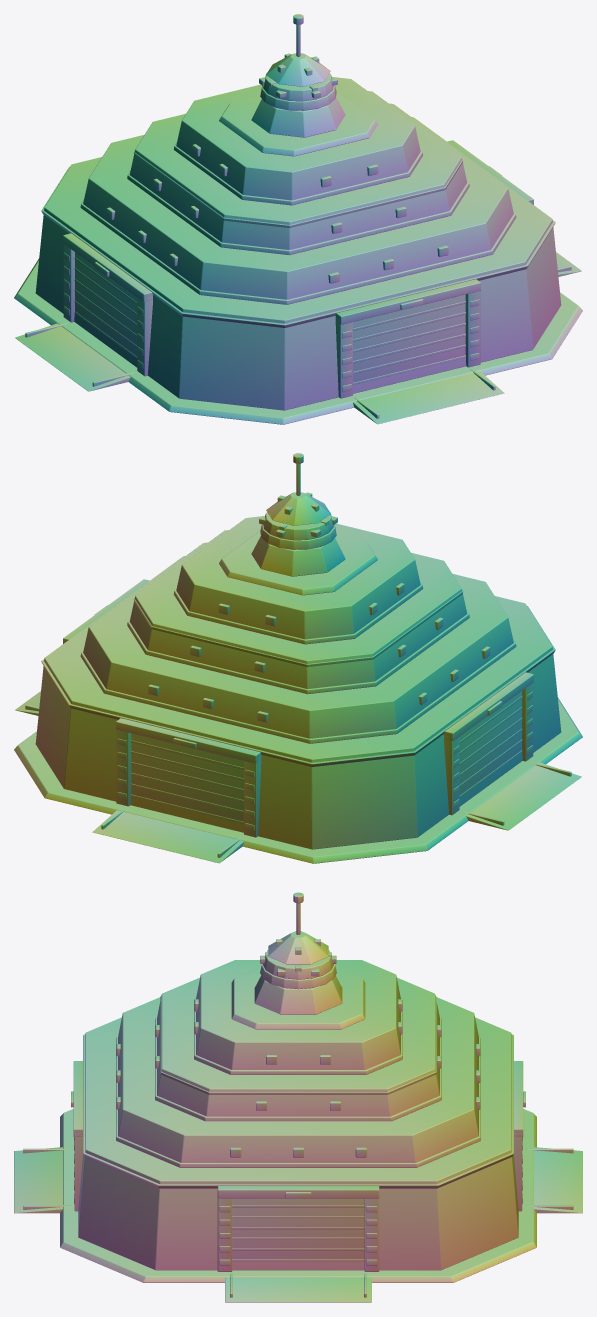
The model's file is hq_t2_rig.glb.
3 renders of one model, top to bottom at view 1: azimuth 30°, elevation 25°; view 2: azimuth 150°, elevation 25°; view 3: azimuth 270°, elevation 25°, orthographic.
Parts seen in each view (by area): view 1: body, door_0, spin_eye, door_2; view 2: body, door_3, spin_eye, door_2; view 3: body, door_1, spin_eye.
Part boxes in pixels (x1,y1,x2,y2): body: (14, 14, 582, 424); door_0: (353, 301, 465, 384); spin_eye: (259, 73, 337, 101); door_2: (74, 257, 137, 358); body: (14, 453, 582, 863); door_3: (131, 740, 243, 823); spin_eye: (259, 512, 337, 540); door_2: (459, 696, 522, 797); body: (14, 892, 582, 1302); door_1: (232, 1205, 364, 1261); spin_eye: (260, 950, 336, 979).
Bounding box in the file's own units: 62 × 34.6 × 62.
